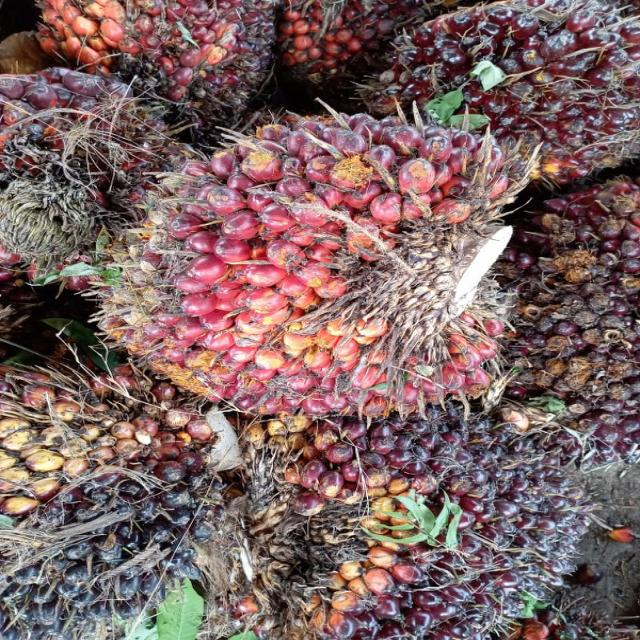fraksi 00: (219, 402, 606, 640)
fraksi 3: (69, 60, 572, 484)
